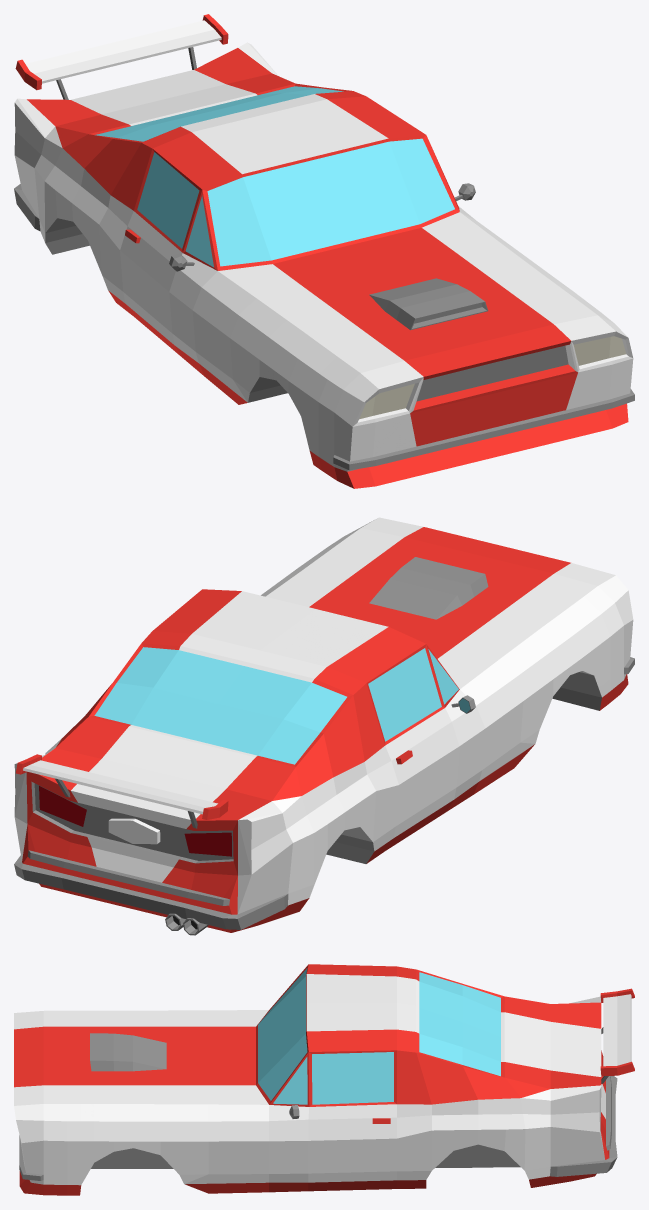
The model's file is car.fbx.
3 views of the same model, one above another, from view 1: azimuth 30°, elevation 25°; view 2: azimuth 150°, elevation 25°; view 3: azimuth 270°, elevation 25° (orthographic). The views are drawn at different scales.
Visible parts, largest first — view 1: Car; view 2: Car; view 3: Car.
Boxes of the visible parts, box(x1,y1,x2,y2) form: Car: box(14, 14, 634, 488); Car: box(14, 517, 634, 935); Car: box(14, 964, 634, 1195).
Size of the model in its own units: 257 by 138 by 565.
